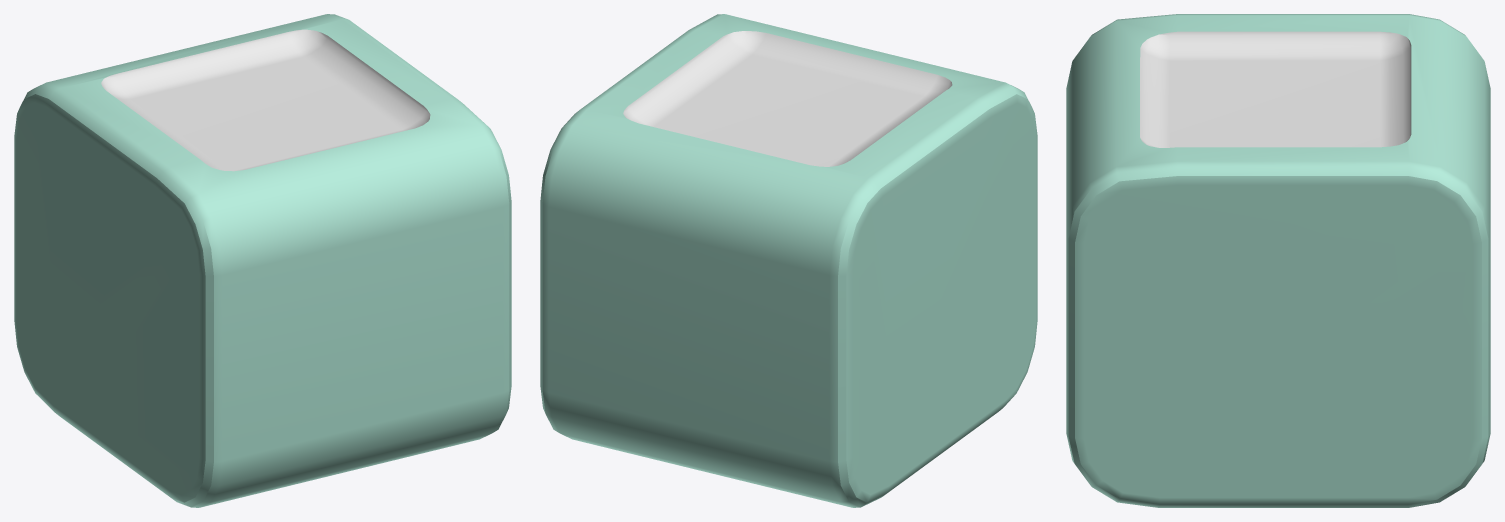
File: loop_screen.fbx
3 views of the same model, side by side, from view 1: azimuth 30°, elevation 25°; view 2: azimuth 150°, elevation 25°; view 3: azimuth 270°, elevation 25° (orthographic). The views are drawn at different scales.
Visible parts, largest first — view 1: pCube50; view 2: pCube50; view 3: pCube50.
Boxes of the visible parts, x1,y1,x2,y2 form: pCube50: (14, 14, 511, 507); pCube50: (540, 14, 1037, 507); pCube50: (1066, 14, 1490, 507).
Bounding box in the file's own units: 0.008 × 0.008 × 0.00892.
